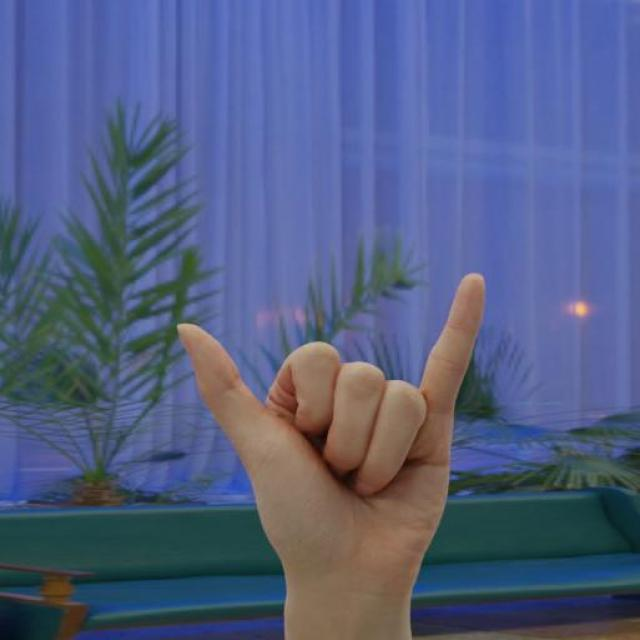Y: (173, 274, 497, 558)
